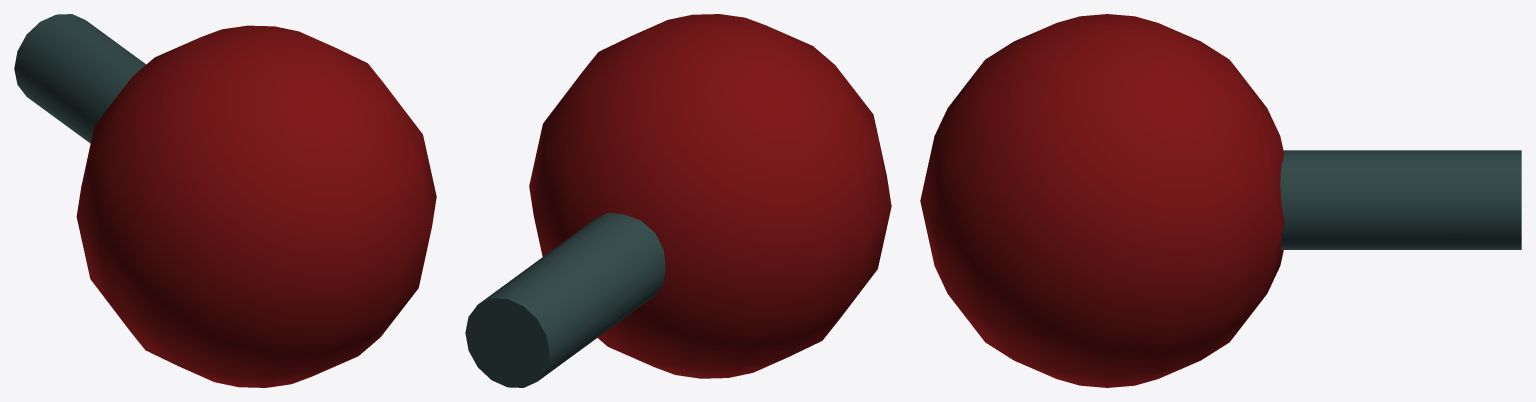
Rendered from Slider handle.fbx.
3 renders of one model, left to right at view 1: azimuth 30°, elevation 25°; view 2: azimuth 150°, elevation 25°; view 3: azimuth 270°, elevation 25°, orthographic. The views are drawn at different scales.
Visible parts, largest first — view 1: Handle; view 2: Handle; view 3: Handle.
Boxes of the visible parts, x1,y1,x2,y2 form: Handle: (14, 14, 436, 387); Handle: (465, 14, 891, 387); Handle: (920, 14, 1521, 387).
Bounding box in the file's own units: 6 × 6 × 9.64.
